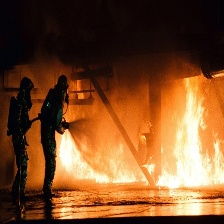fire: (162, 79, 224, 184), (60, 132, 146, 184)
smoke: (56, 61, 157, 127)
